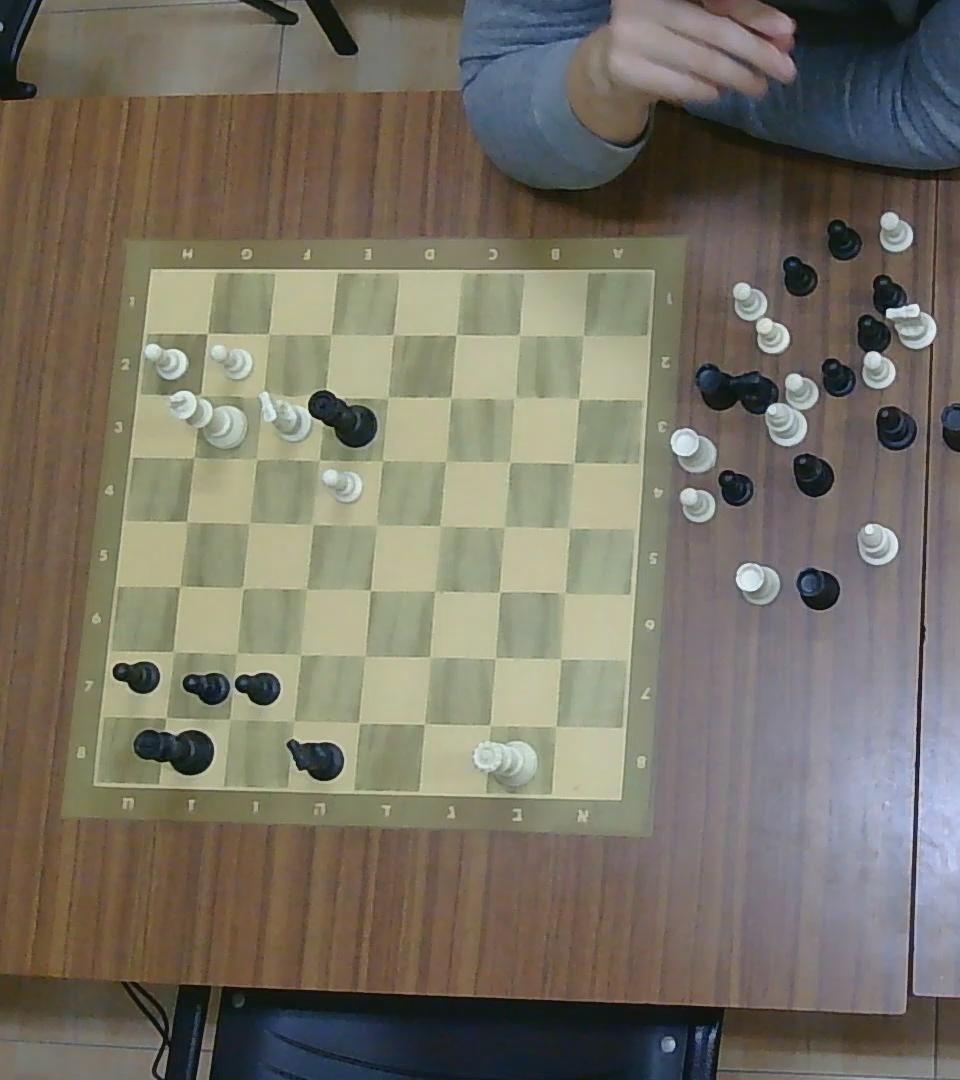xcorner: (543, 714, 569, 739), (247, 382, 271, 407), (549, 647, 573, 671), (477, 712, 502, 735), (482, 646, 506, 669), (418, 644, 441, 668), (412, 712, 436, 735), (348, 710, 370, 734), (154, 706, 178, 727), (439, 386, 461, 406), (188, 386, 210, 406), (372, 450, 392, 470), (423, 580, 443, 600), (296, 578, 315, 599), (435, 450, 454, 470), (429, 516, 448, 536), (489, 582, 508, 602), (361, 580, 380, 600), (555, 582, 574, 602), (177, 511, 196, 531), (446, 325, 465, 345), (355, 646, 374, 666), (170, 575, 189, 595), (290, 644, 309, 664), (284, 710, 303, 730), (320, 324, 339, 344), (378, 388, 397, 407), (226, 643, 245, 662), (219, 709, 238, 728), (303, 514, 321, 534), (183, 448, 203, 466), (495, 516, 513, 536), (367, 514, 385, 534), (309, 450, 327, 470), (315, 386, 333, 406), (248, 449, 266, 468), (198, 323, 217, 341), (560, 518, 578, 537), (500, 451, 518, 470), (260, 324, 278, 343), (564, 453, 583, 471), (384, 324, 402, 343), (165, 642, 183, 660), (511, 326, 529, 344), (233, 578, 251, 596), (241, 513, 258, 532), (505, 389, 523, 406), (573, 327, 591, 344), (572, 390, 587, 405)
